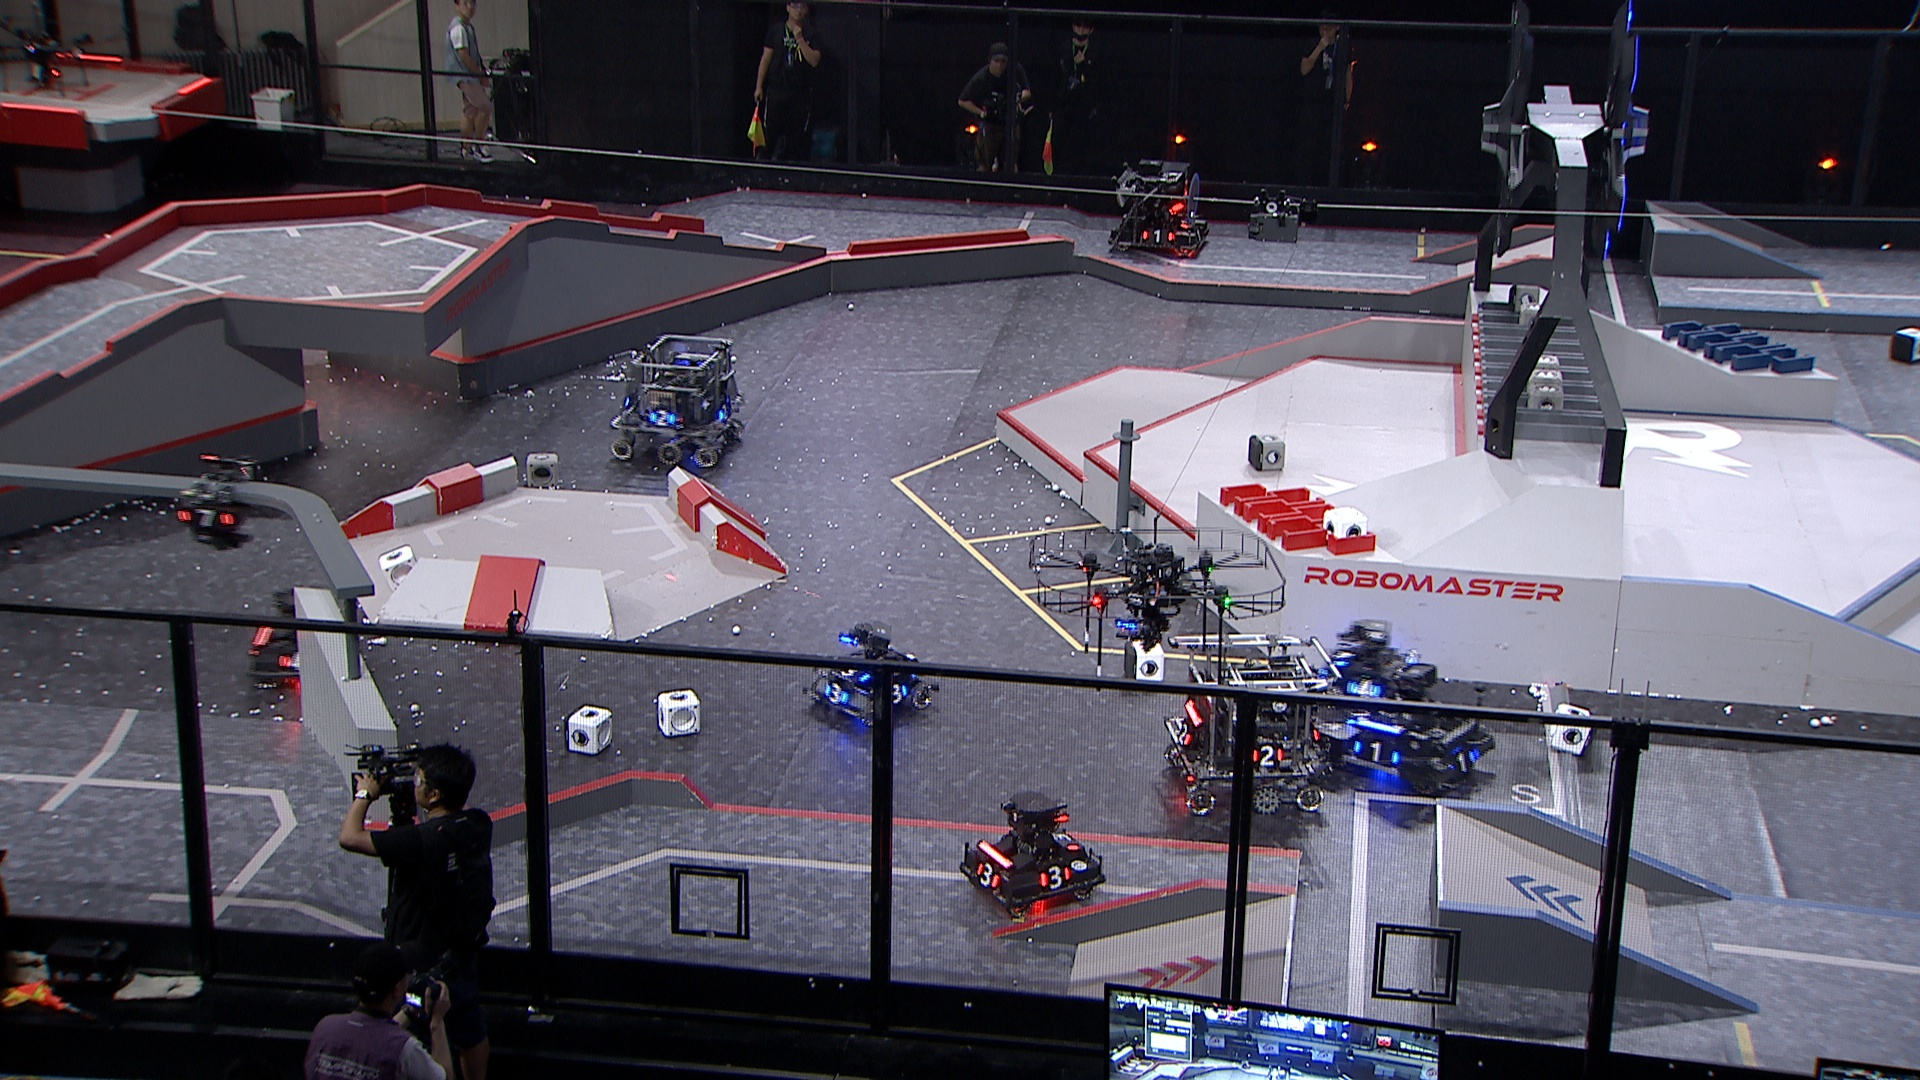armor: (173, 508, 235, 529), (1349, 740, 1400, 764), (1249, 741, 1284, 770), (1035, 862, 1069, 891), (1444, 749, 1476, 778), (972, 858, 1004, 887), (1046, 827, 1079, 853), (1346, 679, 1385, 698), (647, 406, 678, 429), (1332, 644, 1357, 669), (823, 683, 849, 707), (1139, 228, 1178, 244), (835, 669, 873, 683), (1174, 721, 1192, 750), (277, 651, 301, 674), (887, 680, 909, 705), (717, 401, 732, 423), (1189, 225, 1207, 244)
car: (1162, 628, 1332, 818), (1313, 661, 1495, 794), (959, 789, 1110, 916), (608, 334, 746, 471), (802, 621, 938, 727), (243, 585, 363, 692), (1305, 618, 1424, 723), (1106, 156, 1211, 258)
watcher: (167, 450, 262, 547)
